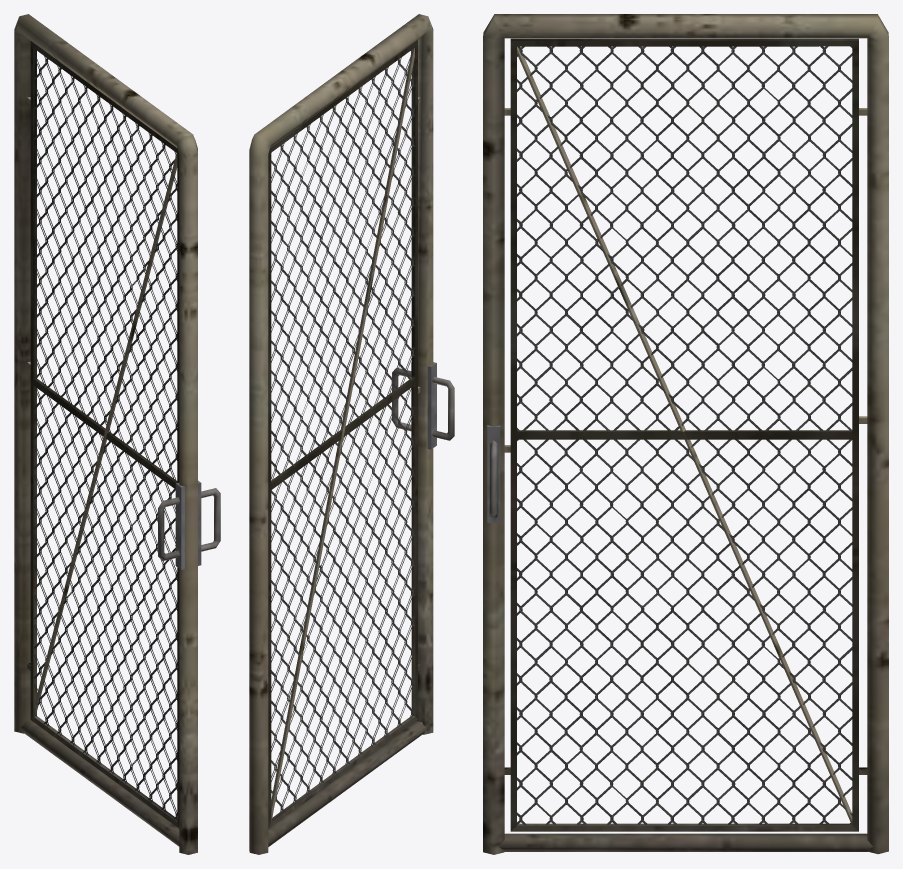
Rendered from interior_fence001g.glb.
3 views of the same model, side by side, from view 1: azimuth 30°, elevation 25°; view 2: azimuth 150°, elevation 25°; view 3: azimuth 270°, elevation 25° (orthographic). The views are drawn at different scales.
Visible parts, largest first — view 1: 0_prison_yard001, 1_fence_alpha; view 2: 0_prison_yard001, 1_fence_alpha; view 3: 0_prison_yard001, 1_fence_alpha.
Boxes of the visible parts, <box> form: 0_prison_yard001: <box>14,14,220,854</box>; 1_fence_alpha: <box>34,49,177,820</box>; 0_prison_yard001: <box>249,14,454,854</box>; 1_fence_alpha: <box>271,49,414,814</box>; 0_prison_yard001: <box>483,14,888,854</box>; 1_fence_alpha: <box>517,46,852,824</box>.
Bounding box in the file's own units: 0.2445 × 2.67 × 1.18.
2 materials, 2 textured.
